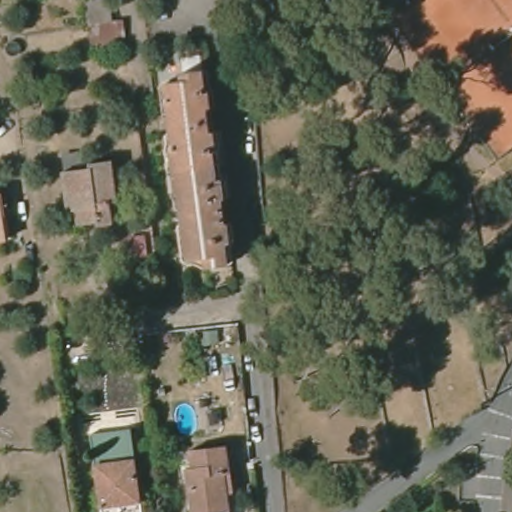pool: (170, 401, 201, 441)
